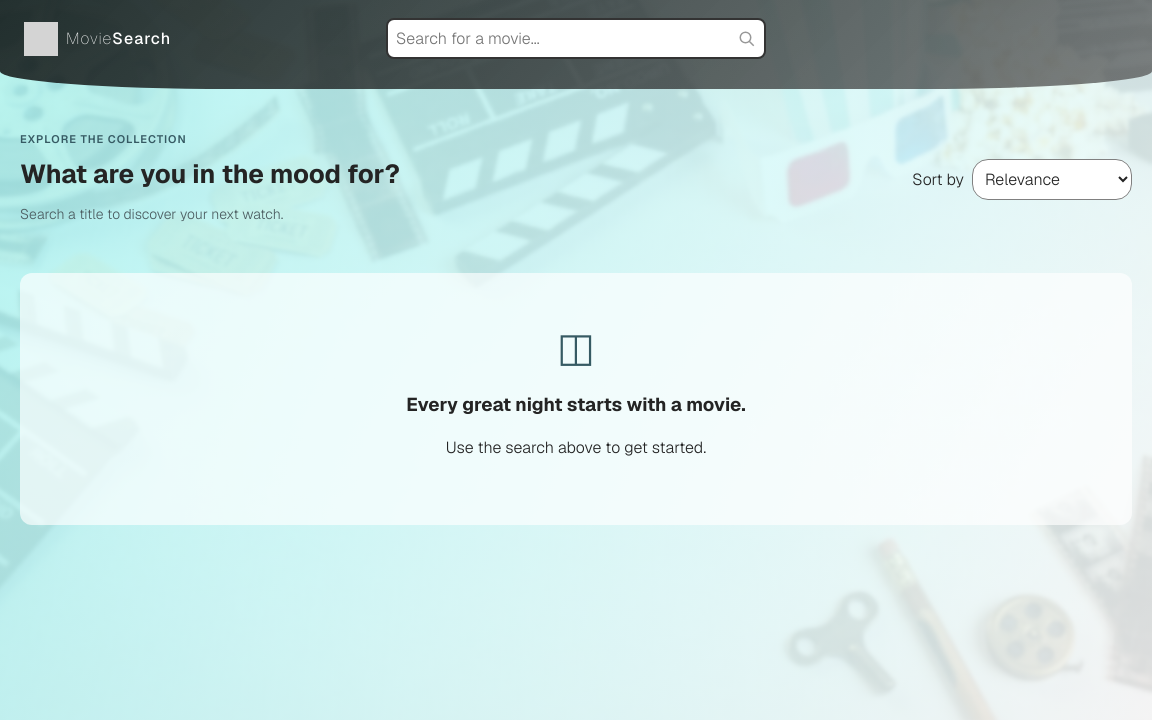
ignores outdated search responses
Type "old" into the search field named "Search movies" at (576, 38), box 386,18 -> 766,59
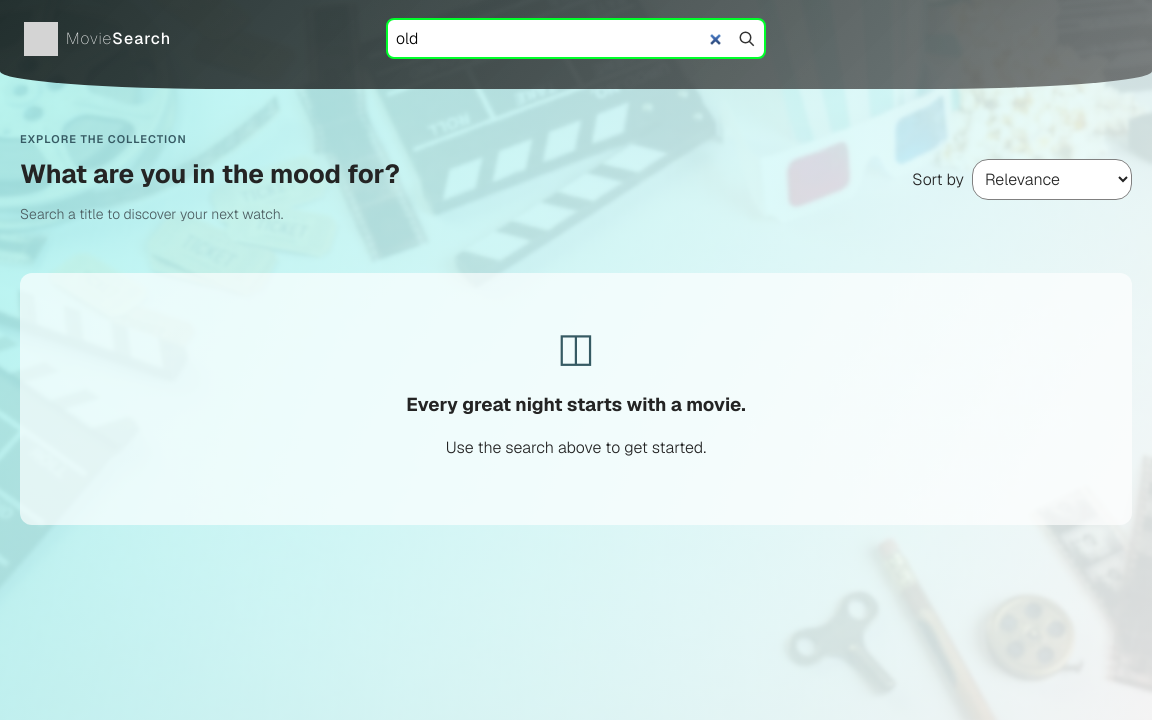
Click the button named "Search" at (747, 38), box 732,24 -> 762,54
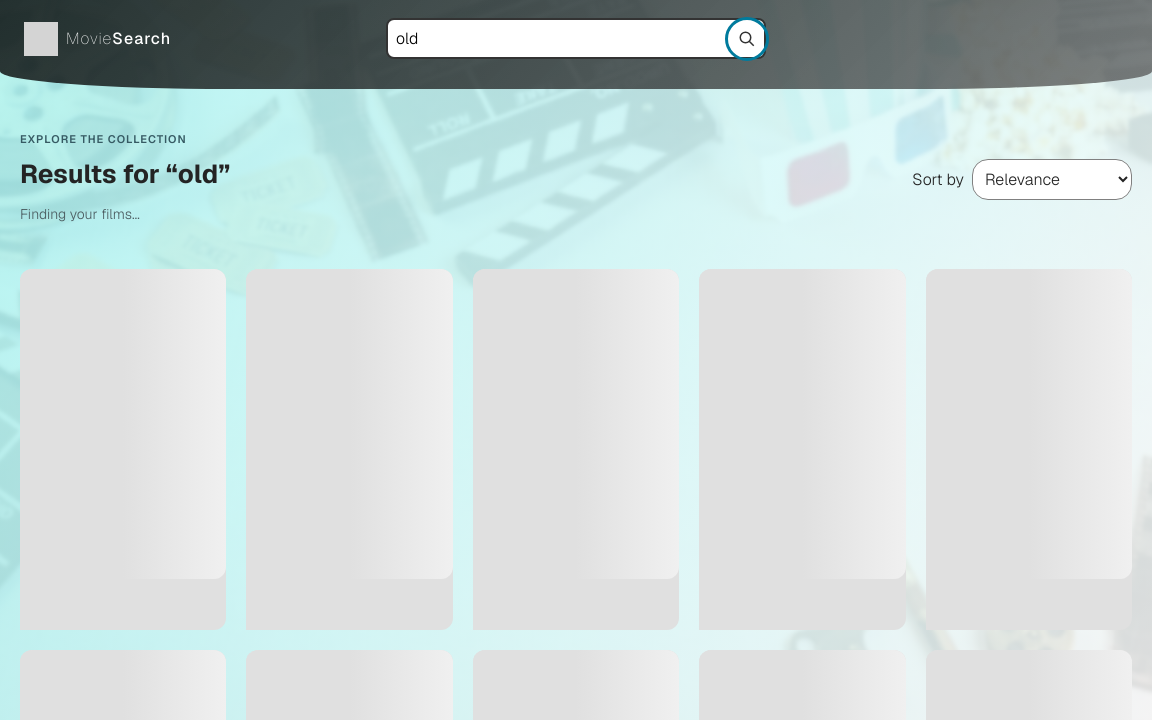
Replace the text in the search field named "Search movies" with "new" at (576, 38), box 386,18 -> 766,59
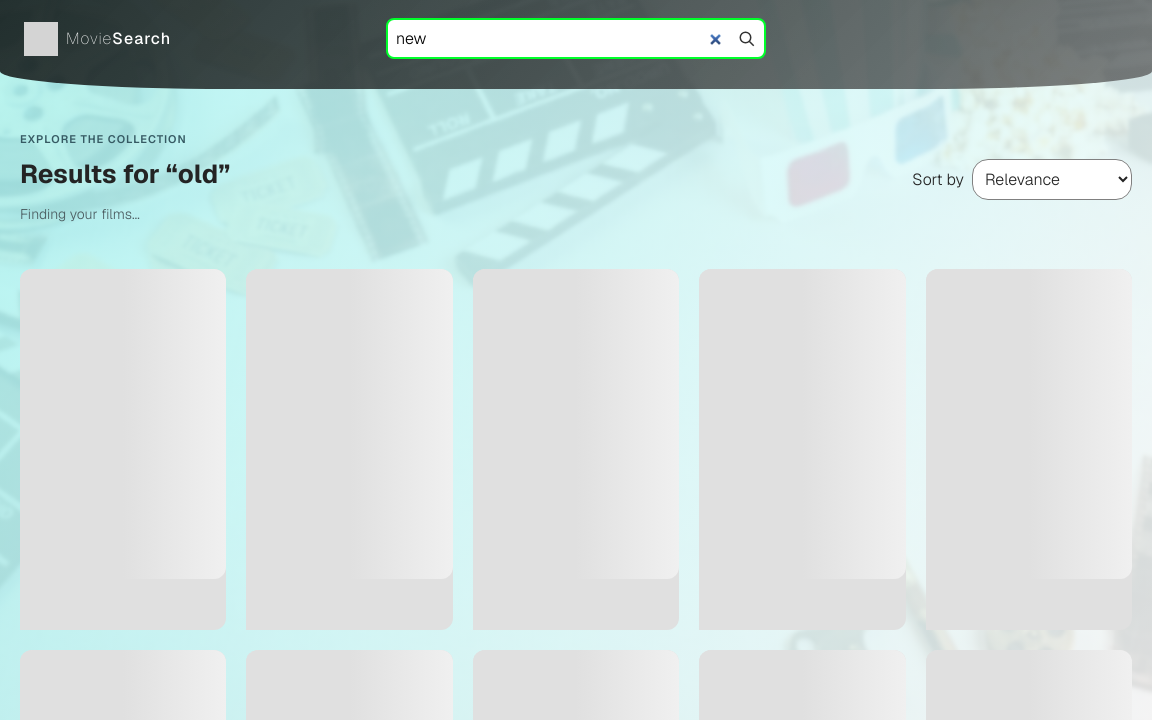
Click the button named "Search" at (747, 38), box 732,24 -> 762,54
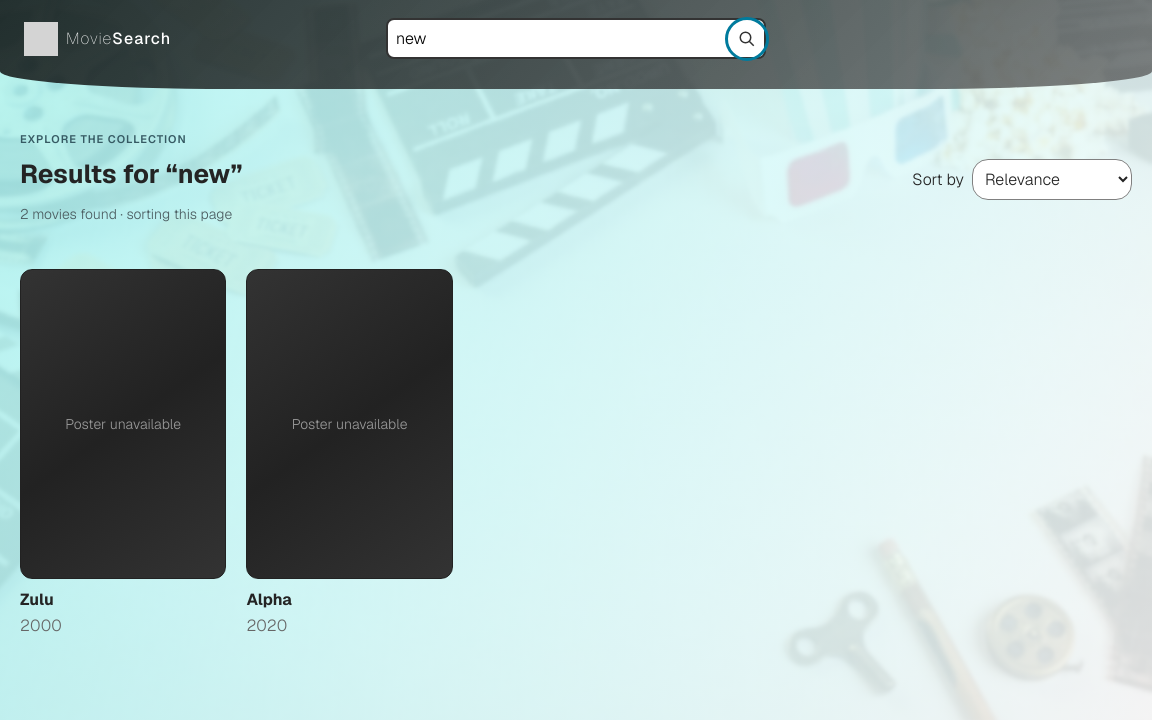
expect the heading "Alpha" is shown: met, box 246,589 -> 292,610
